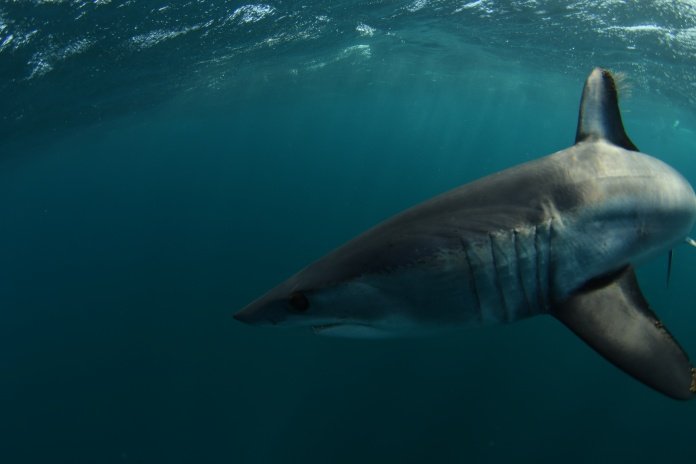Mako: (224, 62, 696, 409)
